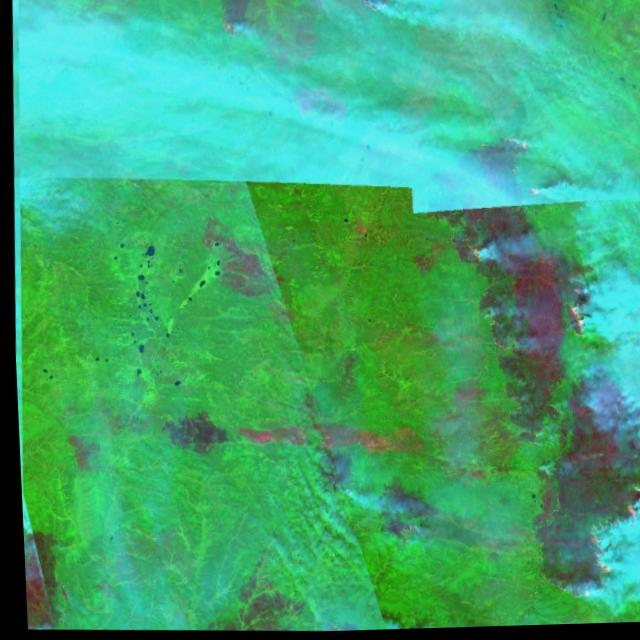fire: (550, 452, 640, 612), (487, 132, 544, 199), (554, 270, 592, 348), (450, 229, 486, 284), (213, 1, 240, 53)
